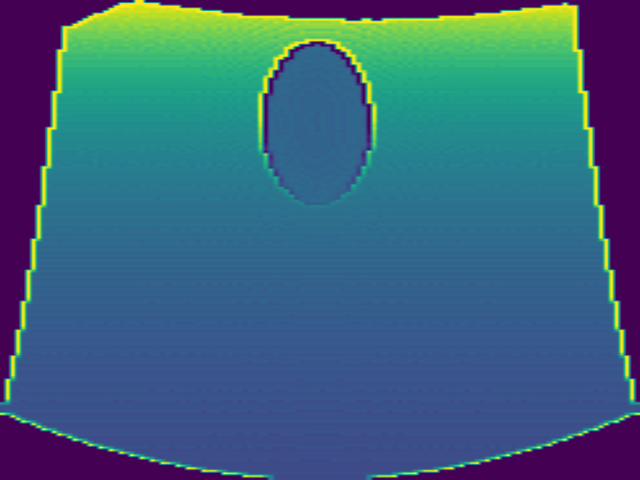sphere: (254, 39, 378, 207)
